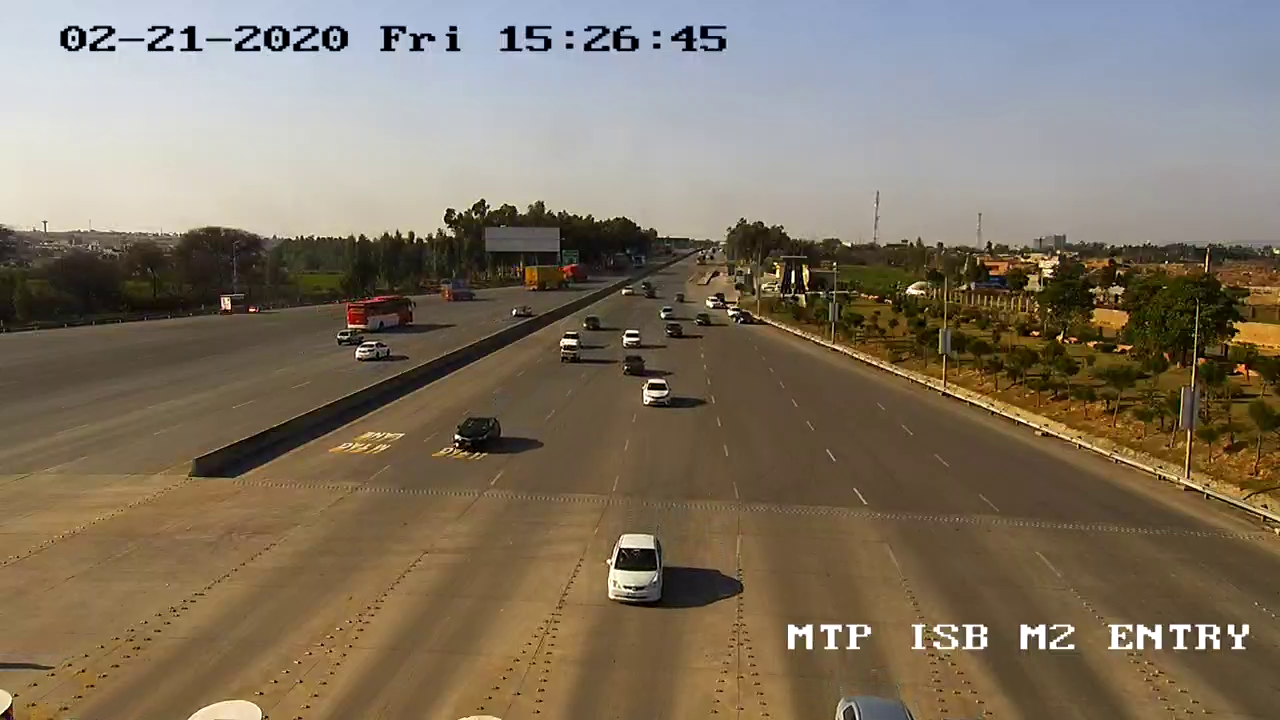f1: (601, 527, 671, 612), (447, 409, 508, 455), (639, 373, 680, 412)
